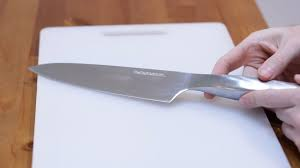knife: (24, 58, 300, 115)
